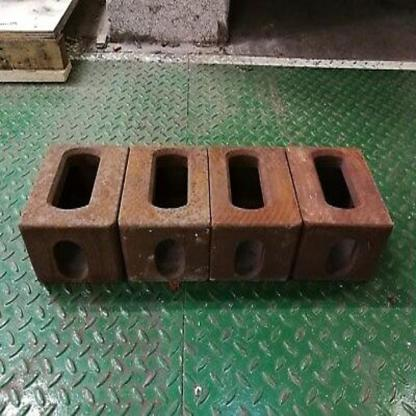CornerCasting: (23, 134, 124, 292), (300, 142, 390, 288), (119, 140, 210, 284), (208, 142, 294, 288)
